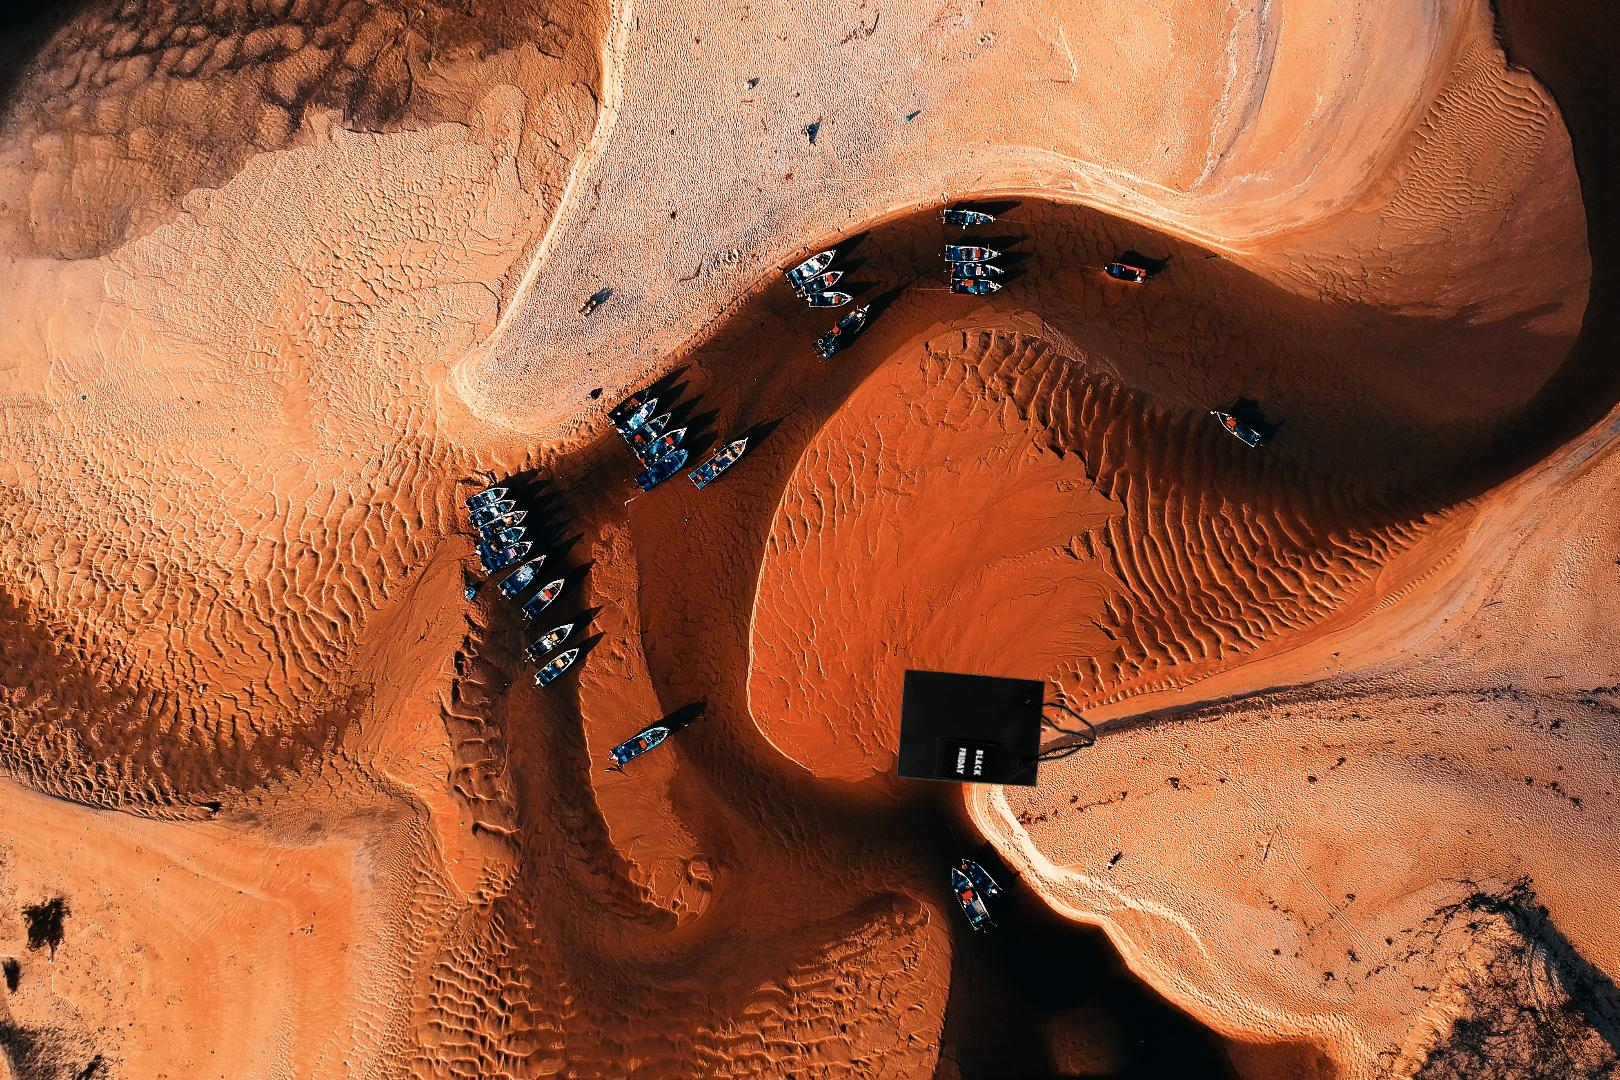paper-bag: (886, 668, 1097, 833)
